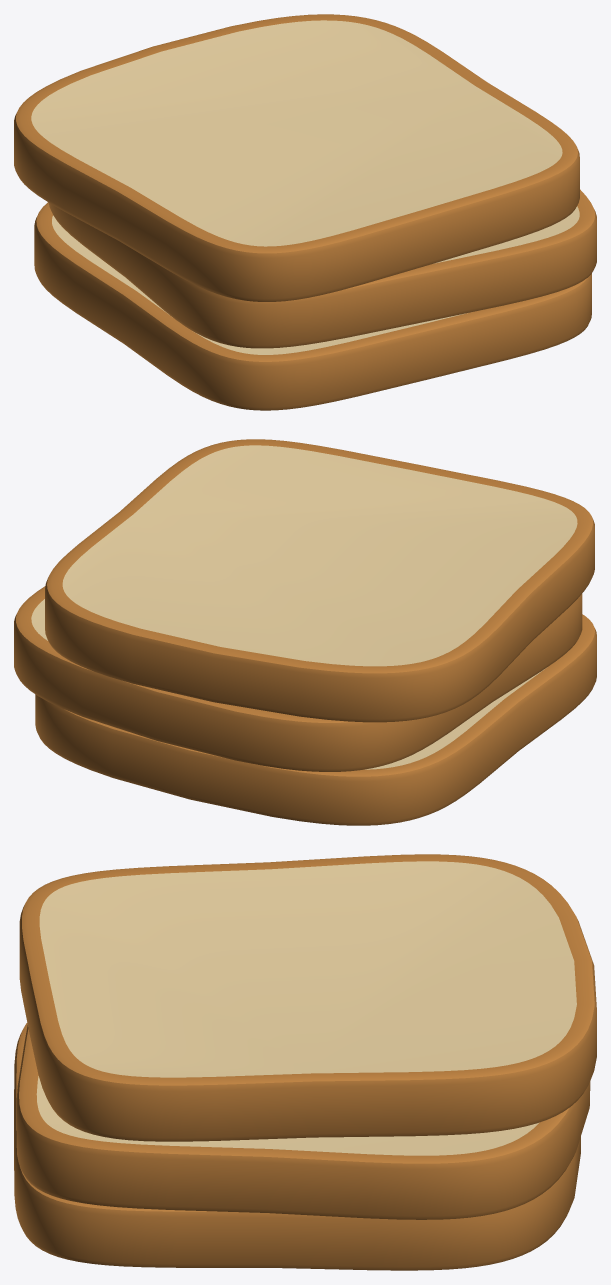
File: Bread_Stack.fbx
The picture shows the model from 3 angles, top to bottom: view 1: azimuth 30°, elevation 25°; view 2: azimuth 150°, elevation 25°; view 3: azimuth 270°, elevation 25°; orthographic projection. The views are drawn at different scales.
Visible parts, largest first — view 1: Bread_Stack; view 2: Bread_Stack; view 3: Bread_Stack.
Part boxes in pixels (x1=…): Bread_Stack: x1=14, y1=14, x2=596, y2=410; Bread_Stack: x1=14, y1=439, x2=596, y2=825; Bread_Stack: x1=14, y1=854, x2=596, y2=1270.
Size of the model in its own units: 0.1235 by 0.0425 by 0.1222.
